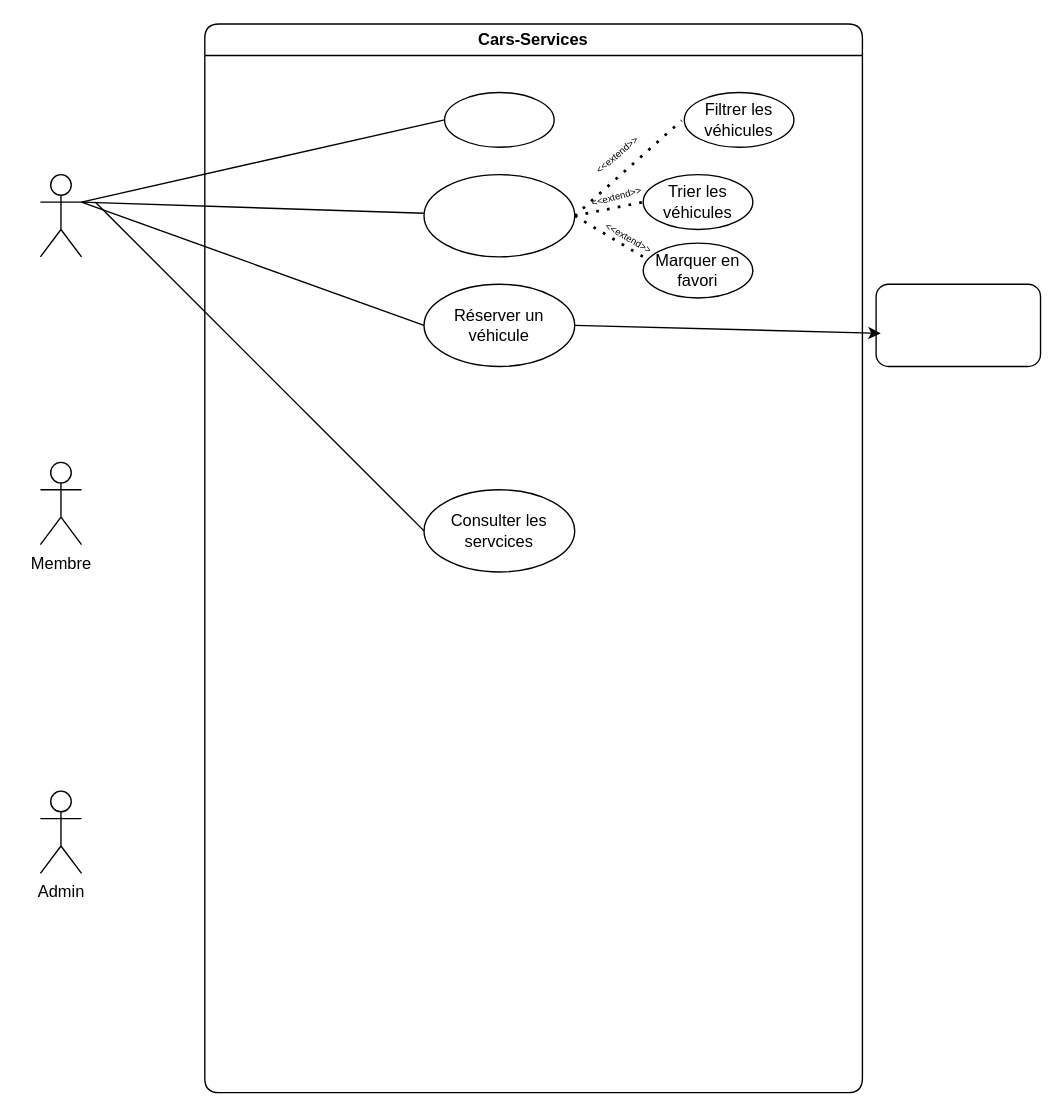
This 1064x1117 diagram has some shape labels left out. The centre of each missing label's shape, as x and y in pixels:
"Consulter les véhicules d'occasions" goes at (x=499, y=215).
"Internaute" goes at (x=60, y=215).
"Payment service" goes at (x=958, y=324).
"S'inscrire" goes at (x=498, y=119).
